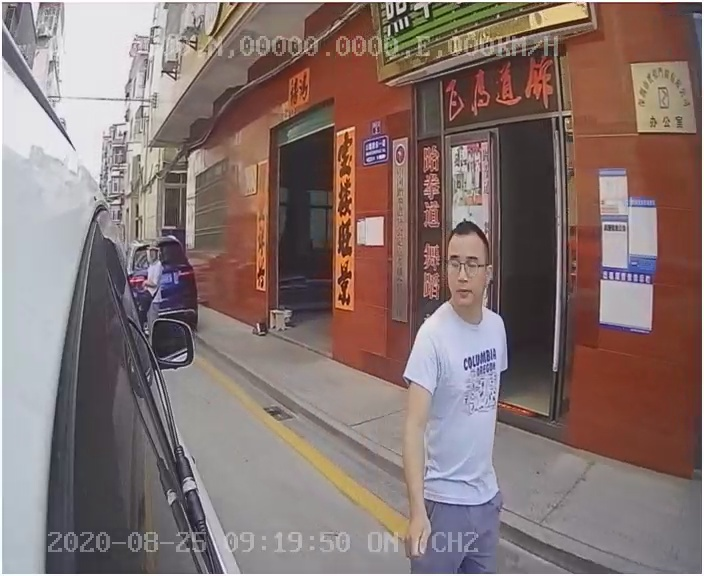person: (391, 219, 535, 547)
